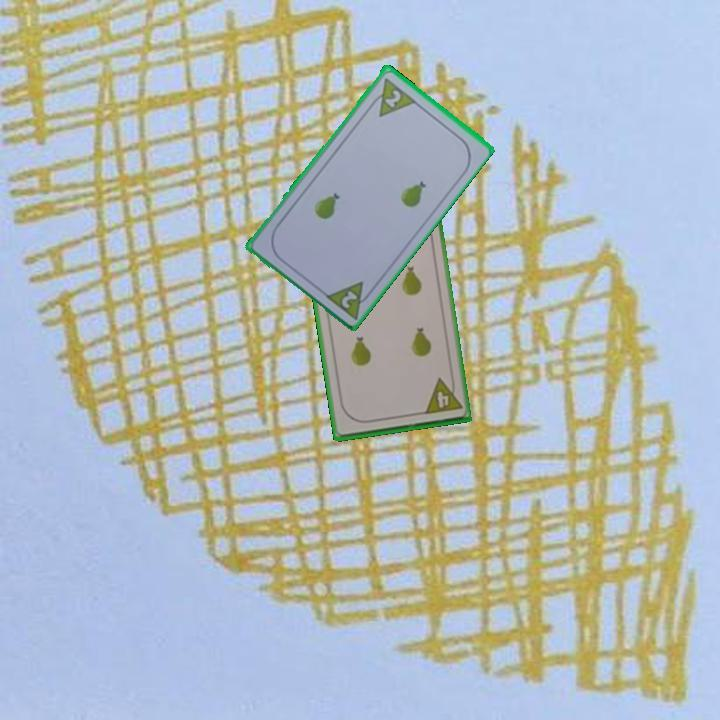2p: (365, 73, 418, 120), (321, 277, 377, 321)
4p: (420, 374, 465, 417)
